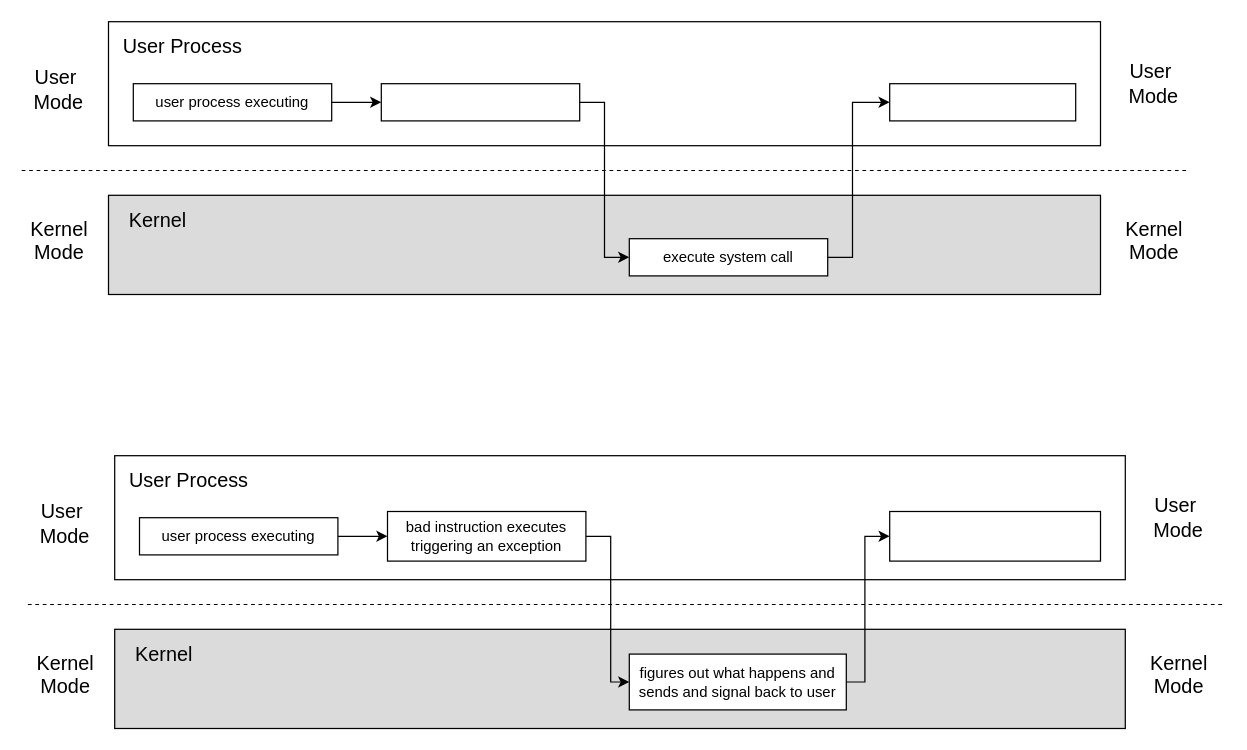
The diagram is 1247 pixels wide and 750 high, and some of its shapes have lost their labels. The shapes that lost their labels are listed below. From the top down, each one's centre as x and y in pixels, then its label:
the point at 480,101: process calls system call
the point at 982,101: continue user process
the point at 994,535: program recieves signal and executes signal handler
